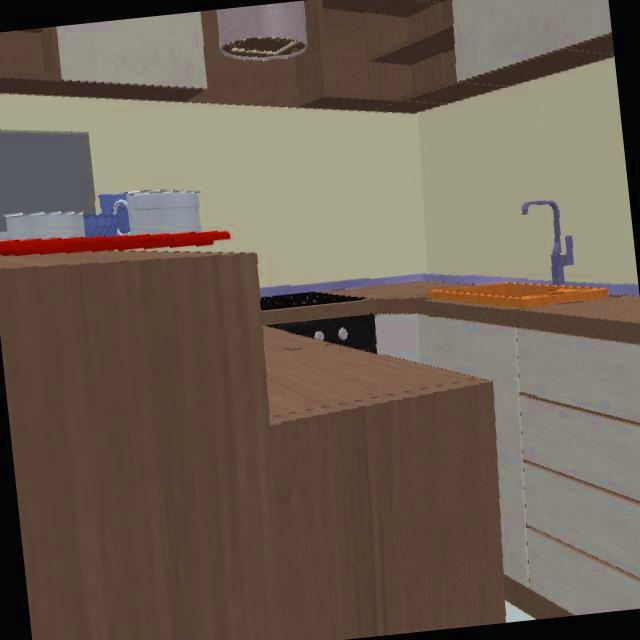countertop: (262, 282, 640, 424)
microwave: (0, 131, 97, 229)
oven: (287, 317, 382, 356)
shelf: (311, 0, 614, 105)
sink: (425, 283, 621, 309)
stove: (262, 286, 362, 316)
